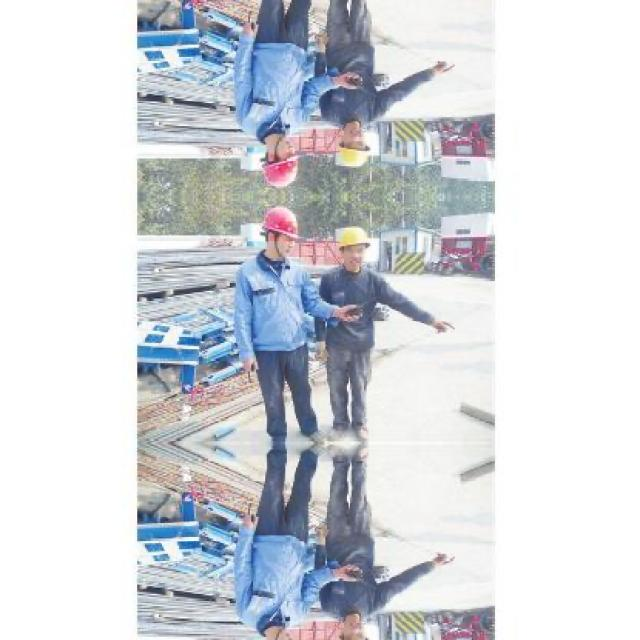helmet: (258, 204, 298, 256), (258, 137, 298, 188), (332, 223, 373, 268), (332, 125, 373, 169), (332, 617, 374, 638)
